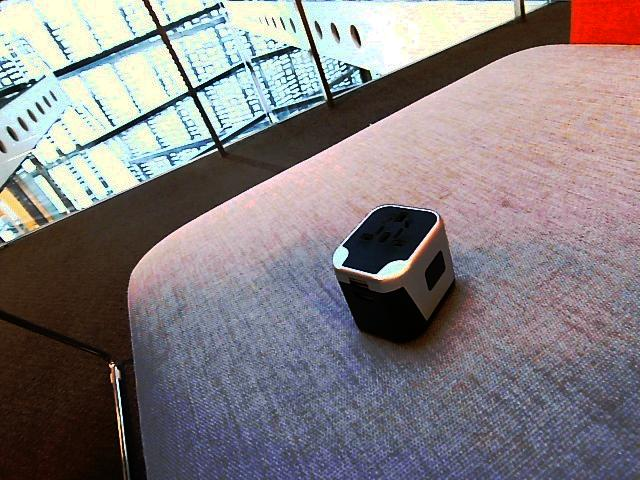adapter: (331, 203, 455, 343)
